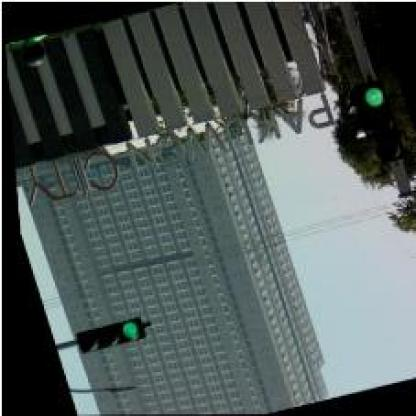green: (352, 77, 403, 165), (65, 318, 140, 353)
